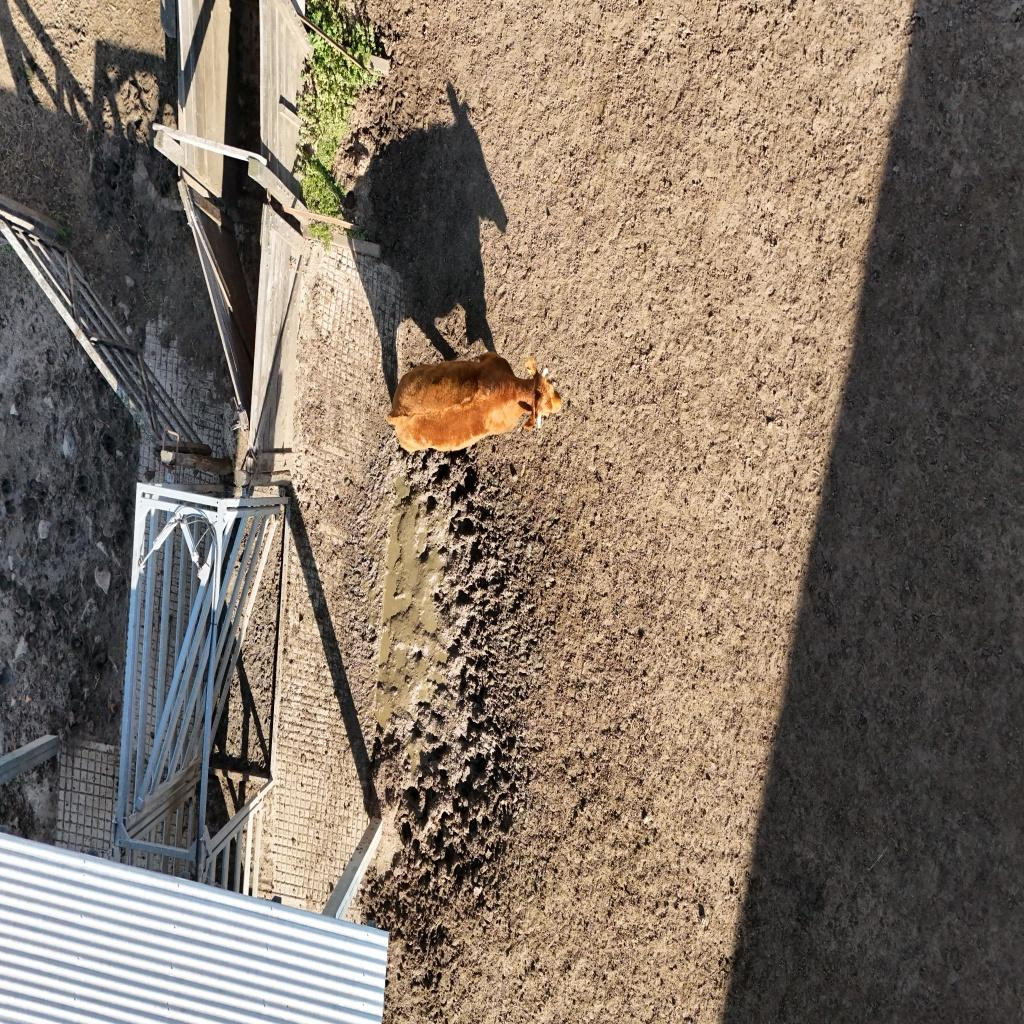cow: (386, 353, 566, 459)
